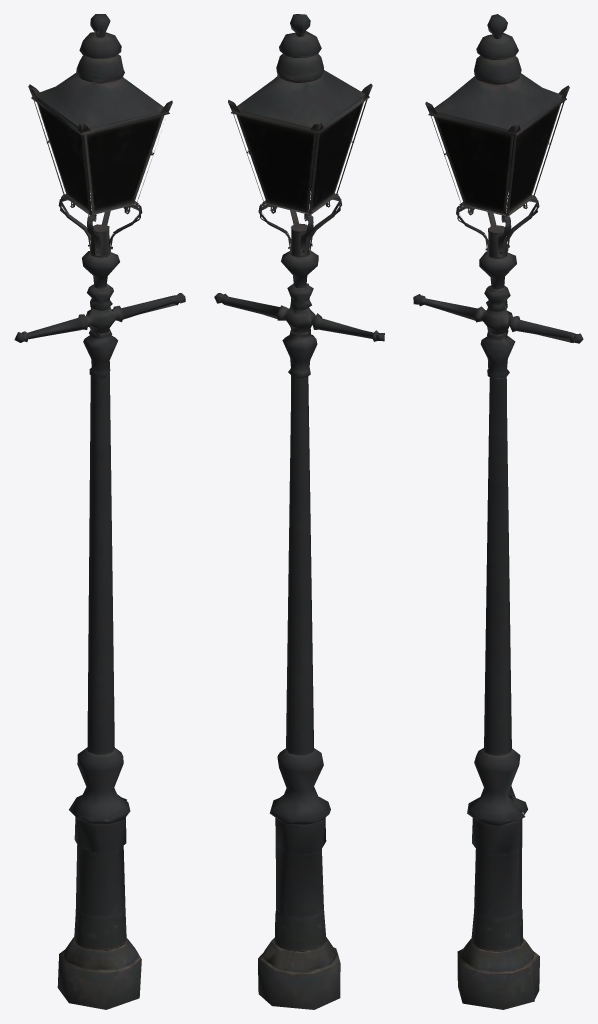
File: street_lamp_01.glb
The picture shows the model from 3 angles, left to right: view 1: azimuth 30°, elevation 25°; view 2: azimuth 150°, elevation 25°; view 3: azimuth 330°, elevation 25°; orthographic projection.
Parts seen in each view (by area): view 1: street_lamp_01; view 2: street_lamp_01; view 3: street_lamp_01.
Boxes of the visible parts, x1,y1,x2,y2 form: street_lamp_01: [14, 14, 185, 1009]; street_lamp_01: [214, 14, 384, 1009]; street_lamp_01: [413, 14, 583, 1009].
Bounding box in the file's own units: 0.7074 × 3.87 × 0.3839.
Materials: 3 (3 with a texture image).
